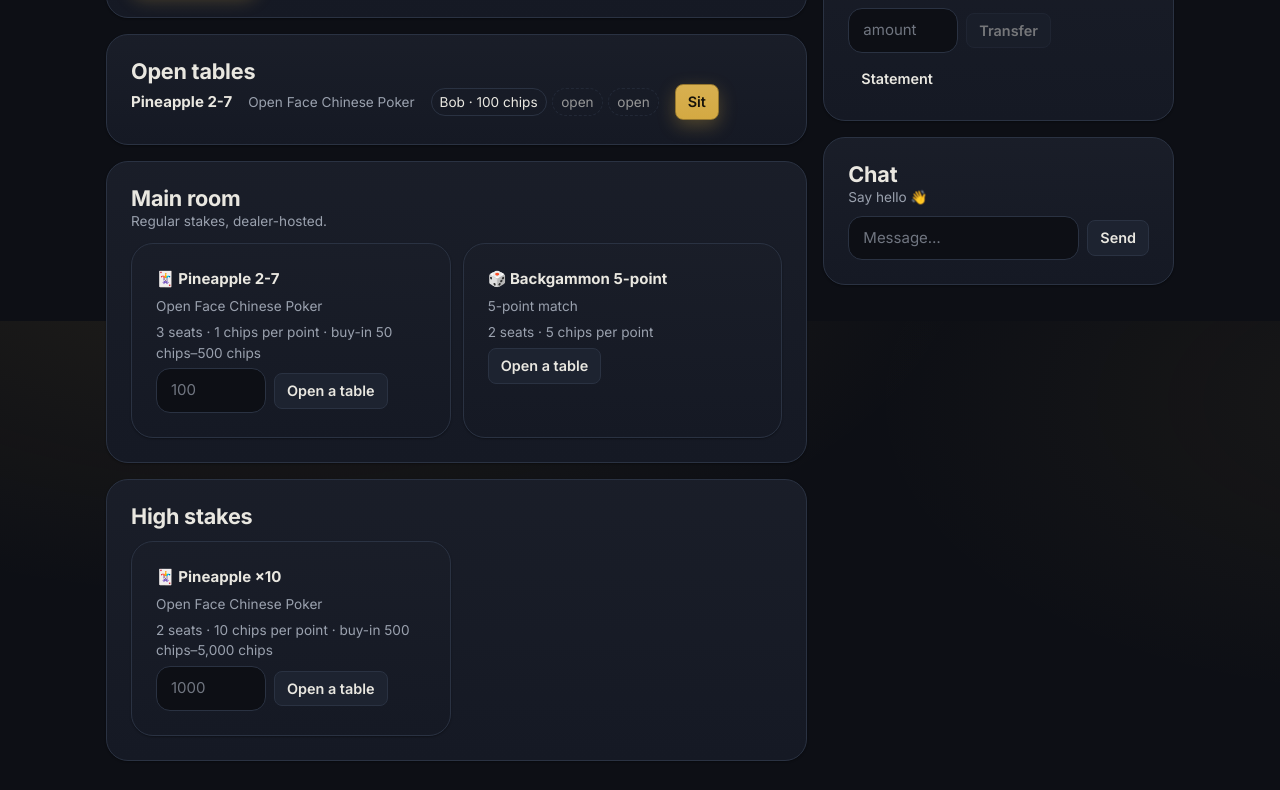
Test case: LobbyScreen › opening a template validates the buy-in range
(page scrolled)
Type "5" into the field with test id "buyin-pine-27" at (211, 391), box [156,368,266,413]
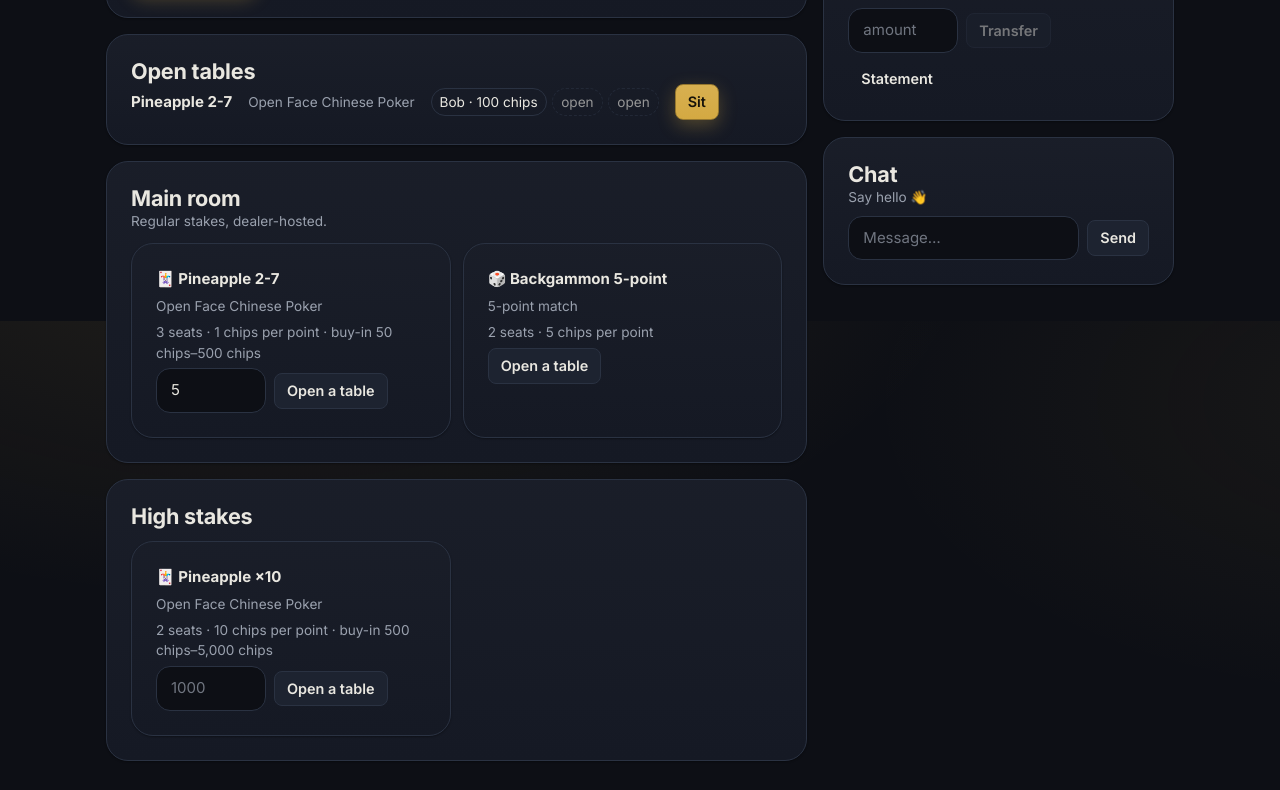
Click the button with test id "open-template-pine-27" at (331, 391), box [274,373,388,408]
(page scrolled)
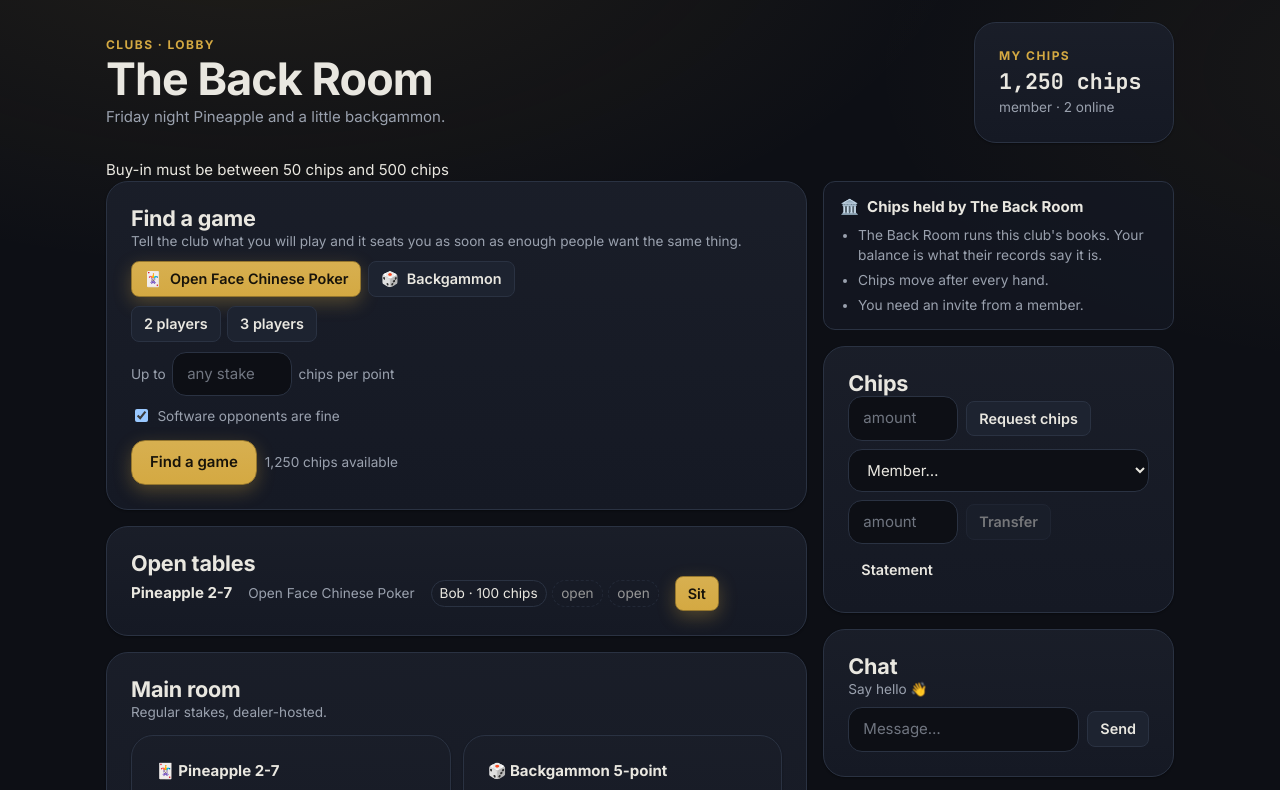
Check: the message with test id "lobby-error" shows "between 50 chips and 500 chips", box [106,160,449,179]
